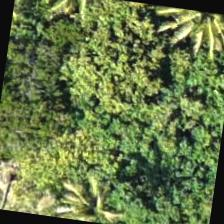Kelapa_Sawit: (62, 150, 163, 223), (0, 126, 70, 217)
